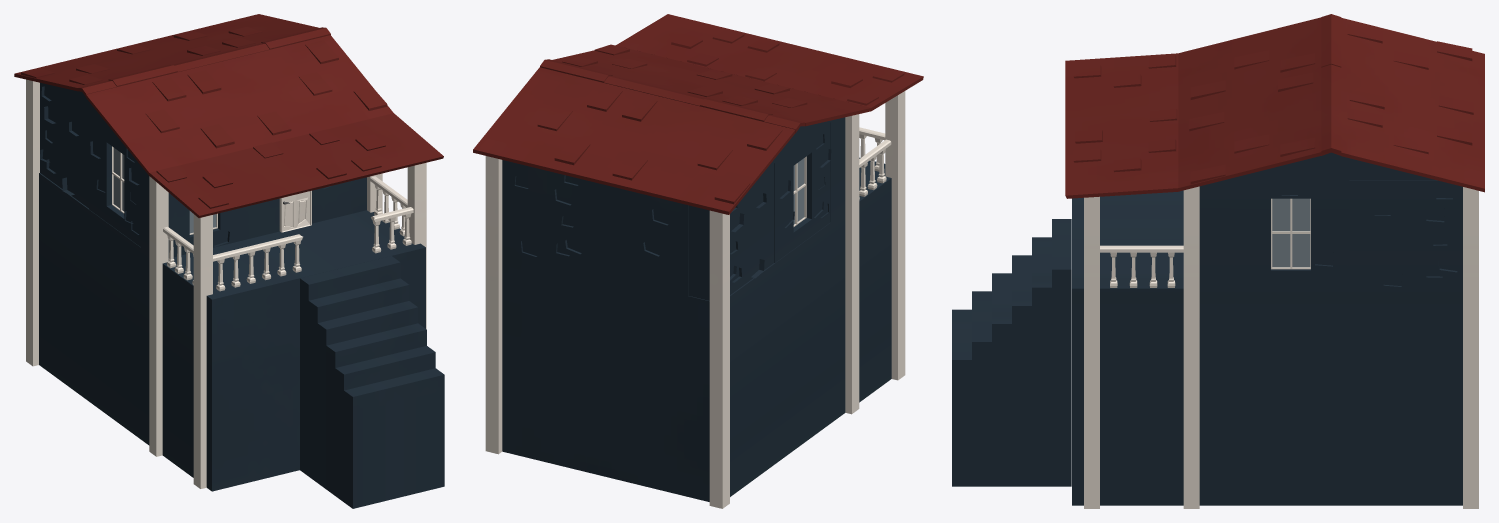
3 views of the same model, side by side, from view 1: azimuth 30°, elevation 25°; view 2: azimuth 150°, elevation 25°; view 3: azimuth 270°, elevation 25° (orthographic). The views are drawn at different scales.
Visible parts, largest first — view 1: 1.001; view 2: 1.001; view 3: 1.001.
Part boxes in pixels (x1,y1,x2,y2): 1.001: [14, 14, 444, 508]; 1.001: [473, 14, 923, 508]; 1.001: [952, 14, 1484, 508].
Bounding box in the file's own units: 16.04 × 20.25 × 26.71.
3 materials, 1 textured.
